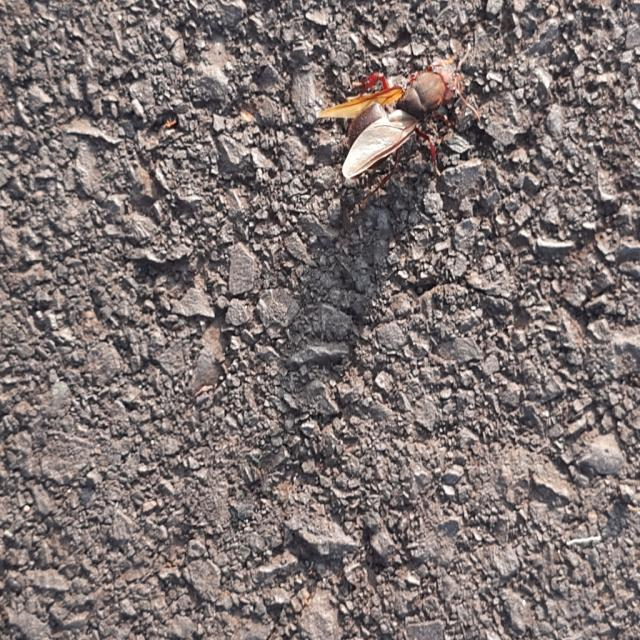Alive-Female-Alate: (314, 42, 482, 210)
